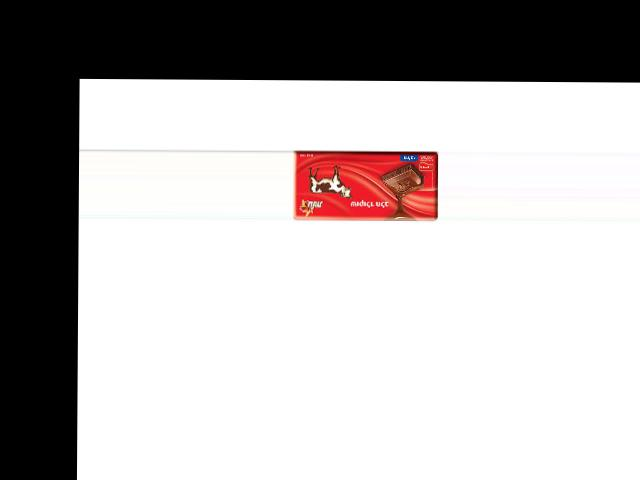chocolate: (291, 151, 439, 221)
